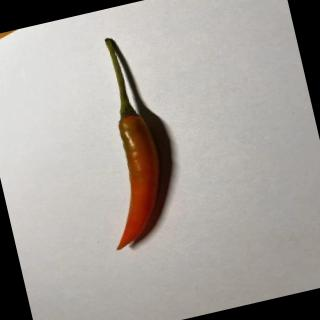Cabai Merah: (69, 33, 178, 252)
